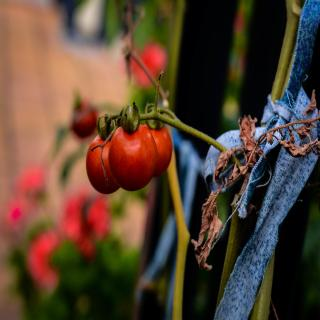tomato: (108, 98, 156, 192), (85, 135, 122, 194), (143, 122, 174, 177)
